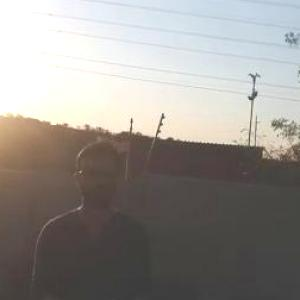follow: (23, 134, 163, 299)
